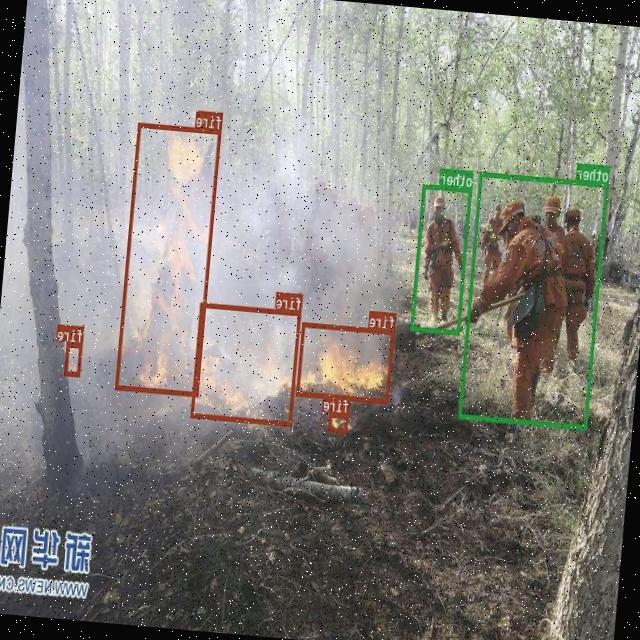fire: (116, 122, 222, 396), (191, 302, 302, 425), (296, 321, 396, 403), (64, 342, 83, 376), (328, 410, 350, 432)
